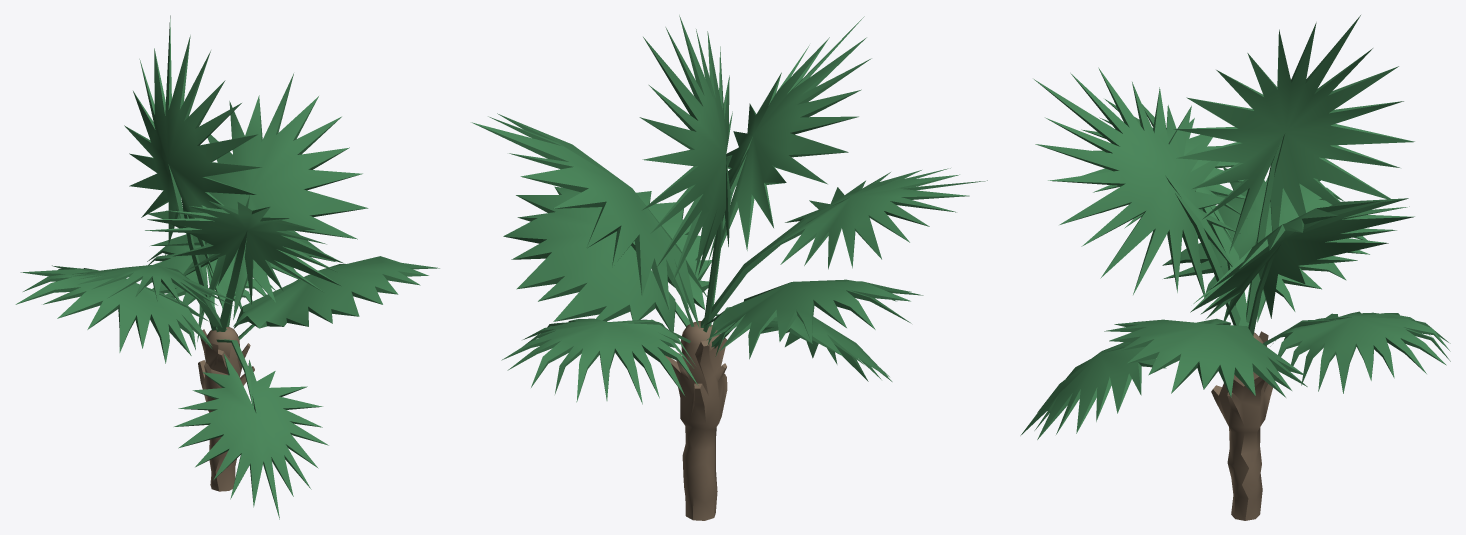
File: spikepalm_small.fbx
3 renders of one model, left to right at view 1: azimuth 30°, elevation 25°; view 2: azimuth 150°, elevation 25°; view 3: azimuth 270°, elevation 25°, orthographic. The views are drawn at different scales.
Visible parts, largest first — view 1: spikepalm_small; view 2: spikepalm_small; view 3: spikepalm_small.
Boxes of the visible parts, x1=… form: spikepalm_small: x1=15, y1=15, x2=439, y2=519; spikepalm_small: x1=471, y1=15, x2=987, y2=520; spikepalm_small: x1=1020, y1=15, x2=1450, y2=520.
Size of the model in its own units: 0.241 by 0.2649 by 0.2076.
